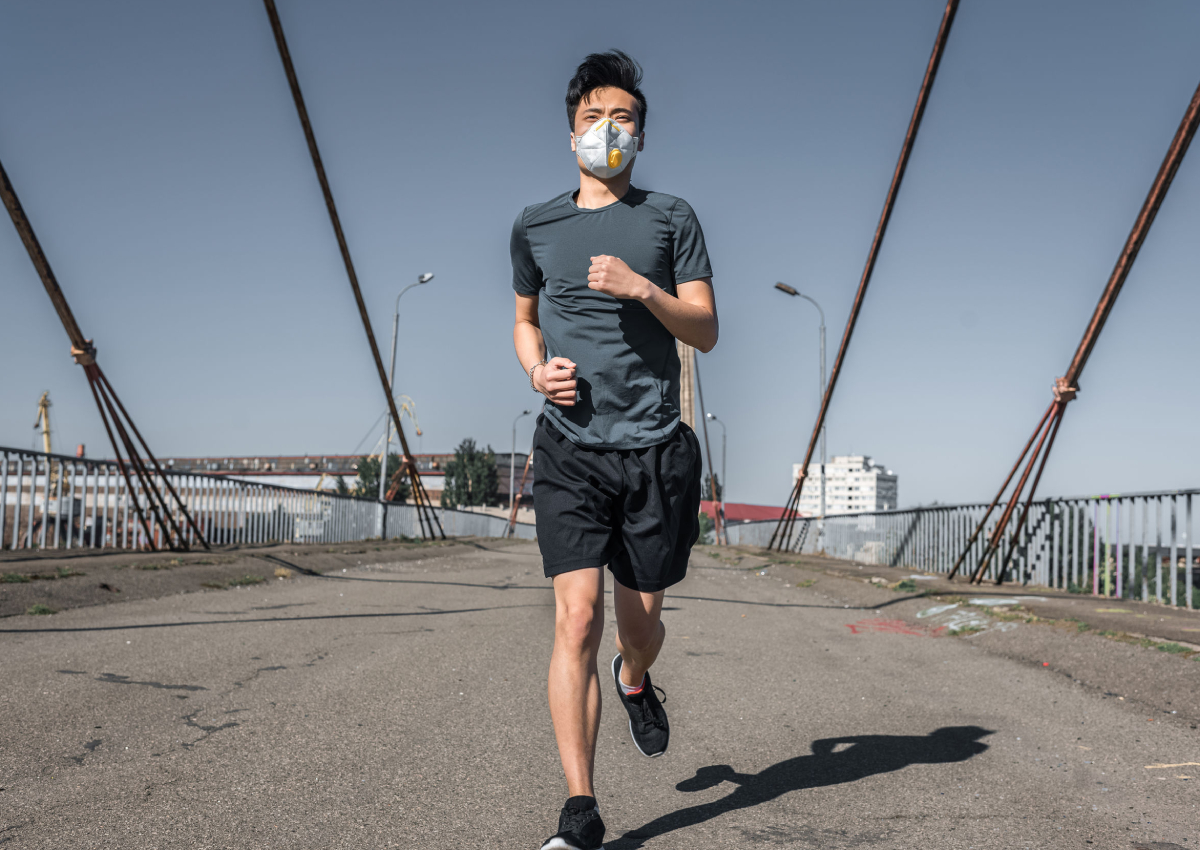with_mask: (557, 75, 653, 181)
